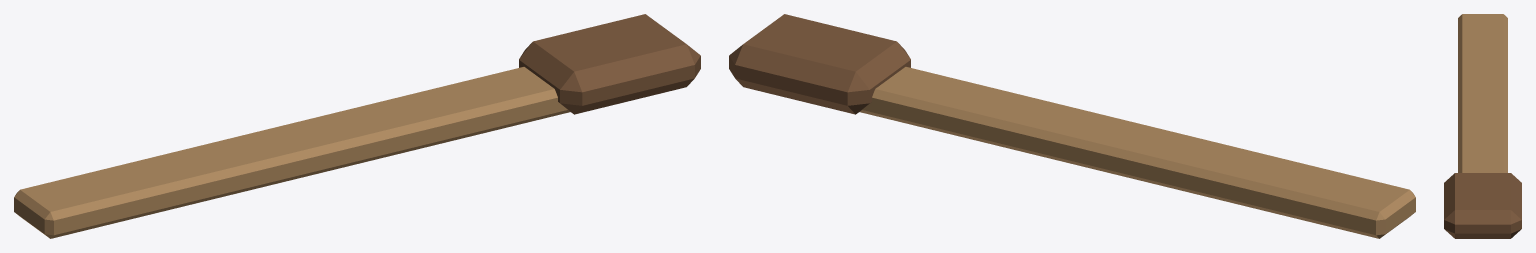
3 views of the same model, side by side, from view 1: azimuth 30°, elevation 25°; view 2: azimuth 150°, elevation 25°; view 3: azimuth 270°, elevation 25° (orthographic). The views are drawn at different scales.
Parts seen in each view (by area): view 1: BA-0035 batched; view 2: BA-0035 batched; view 3: BA-0035 batched.
Part boxes in pixels (<box>): BA-0035 batched: <box>14,14,700,238</box>; BA-0035 batched: <box>729,14,1415,238</box>; BA-0035 batched: <box>1444,14,1521,238</box>.
Size of the model in its own units: 0.555 by 0.0365 by 0.085.
